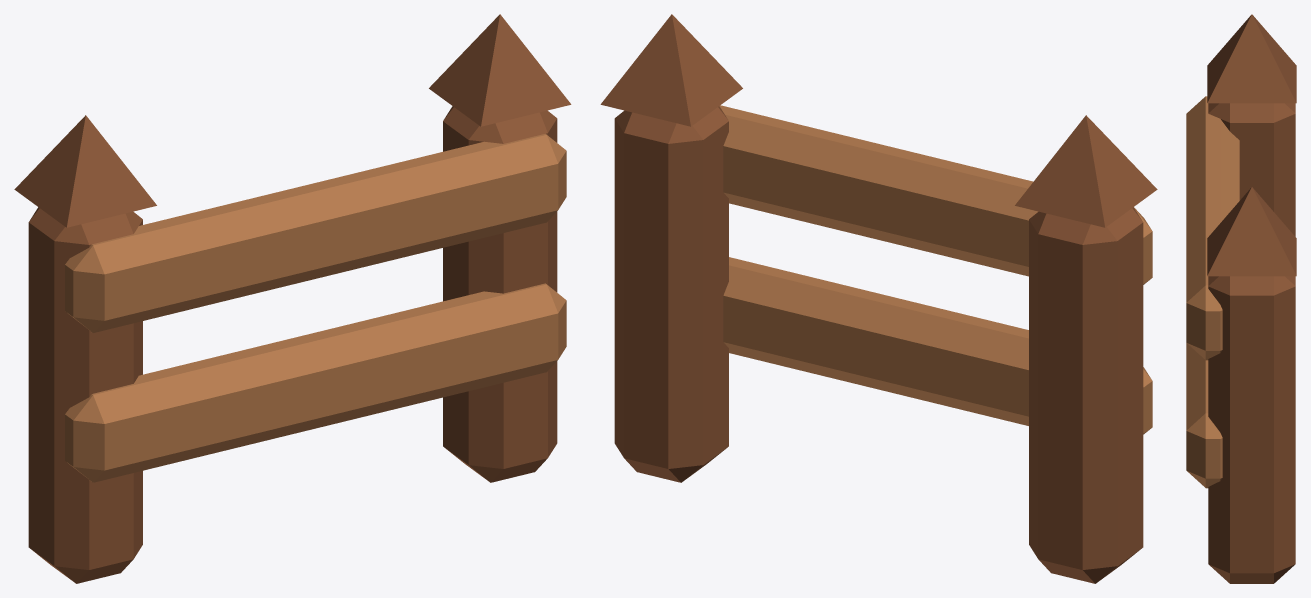
File: Prop_Fence.fbx
3 renders of one model, left to right at view 1: azimuth 30°, elevation 25°; view 2: azimuth 150°, elevation 25°; view 3: azimuth 270°, elevation 25°, orthographic. The views are drawn at different scales.
Visible parts, largest first — view 1: Prop_Fence; view 2: Prop_Fence; view 3: Prop_Fence.
Boxes of the visible parts, left/top/right/bottom form: Prop_Fence: left=14, top=14, right=571, bottom=583; Prop_Fence: left=600, top=14, right=1157, bottom=583; Prop_Fence: left=1186, top=14, right=1296, bottom=583.
Bounding box in the file's own units: 1.02 × 0.88 × 0.2269.
